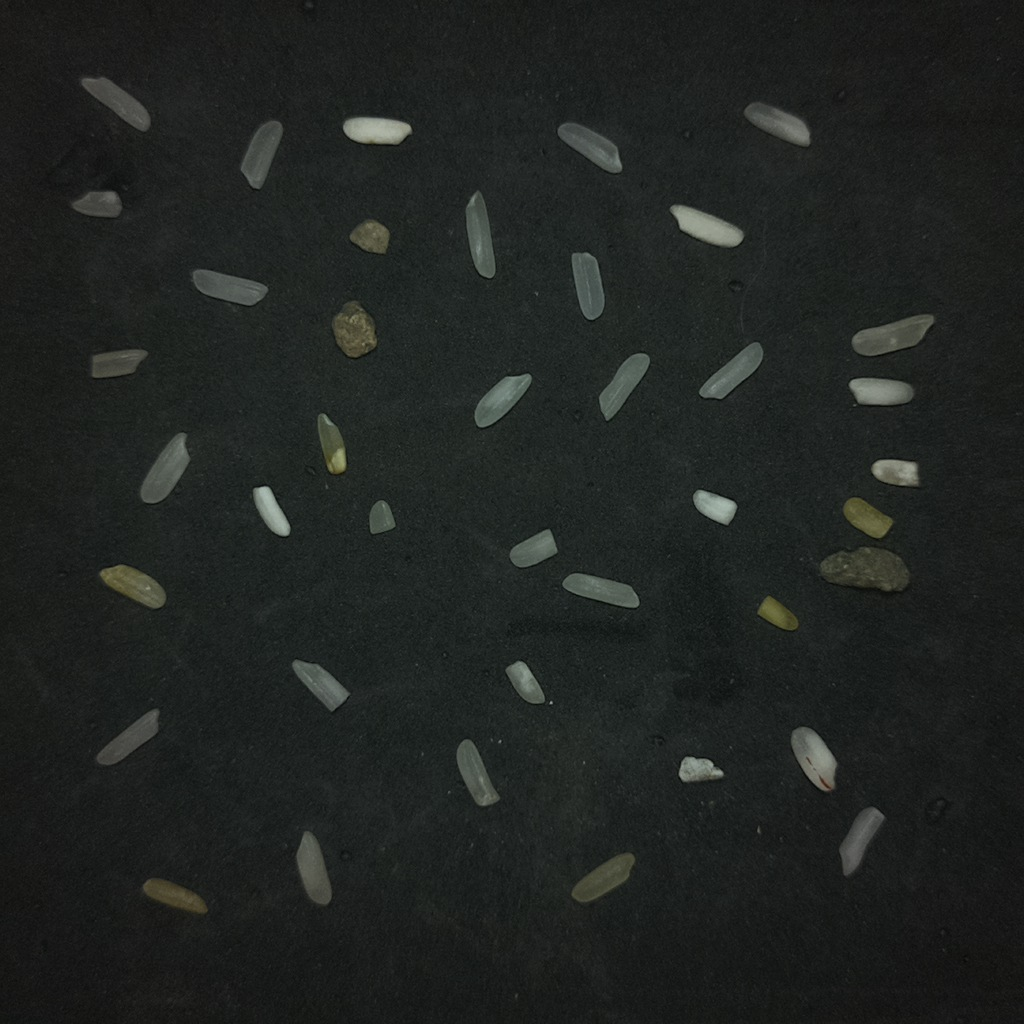broken: (839, 806, 885, 876), (292, 659, 349, 710), (457, 739, 499, 806), (509, 529, 557, 567), (90, 349, 147, 378), (505, 661, 544, 703), (693, 489, 737, 525), (70, 190, 122, 219), (871, 459, 919, 486), (678, 756, 723, 782), (369, 500, 395, 534)
chalky: (670, 204, 743, 247), (791, 727, 837, 791), (342, 116, 411, 145), (252, 485, 290, 536), (849, 377, 913, 406)
discolored: (571, 853, 634, 903), (99, 564, 165, 608), (142, 878, 207, 914), (843, 497, 893, 538), (317, 413, 346, 474), (757, 595, 798, 630)
foreign: (819, 546, 908, 591), (332, 301, 377, 357), (349, 219, 389, 253)
whole: (80, 77, 150, 131), (699, 342, 763, 399), (139, 432, 189, 503), (96, 709, 158, 765), (852, 314, 934, 355), (599, 353, 649, 420), (558, 122, 621, 173), (474, 373, 531, 427), (744, 101, 810, 146), (240, 120, 282, 189), (192, 268, 267, 305), (562, 573, 639, 608), (465, 190, 495, 278), (296, 831, 331, 905), (571, 252, 604, 320)
